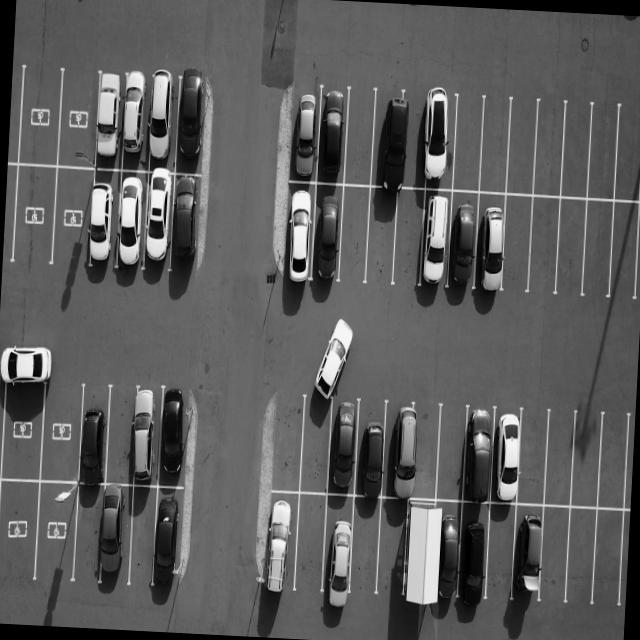car: (260, 490, 304, 600), (423, 503, 465, 612), (508, 501, 552, 603), (319, 491, 360, 600), (452, 502, 494, 608), (152, 487, 194, 592), (98, 484, 139, 590), (368, 86, 410, 189), (168, 173, 210, 275), (381, 404, 424, 503), (72, 385, 112, 488), (484, 410, 526, 507), (82, 167, 120, 274), (350, 400, 391, 497), (442, 190, 480, 294), (114, 168, 151, 274), (140, 170, 177, 276), (420, 94, 460, 192), (324, 399, 364, 496), (460, 406, 500, 503), (418, 189, 456, 291), (157, 389, 196, 488), (316, 86, 354, 187), (473, 192, 510, 295), (311, 182, 348, 284), (128, 388, 166, 487), (143, 74, 180, 173), (174, 76, 210, 176), (284, 182, 318, 286), (89, 72, 124, 170), (120, 74, 154, 172), (291, 86, 323, 186)
free: (38, 374, 88, 484), (0, 363, 45, 482), (50, 165, 96, 273), (9, 164, 55, 272), (16, 62, 61, 168), (292, 494, 335, 604), (299, 393, 342, 498), (102, 385, 146, 486), (478, 503, 520, 608), (57, 68, 100, 170), (266, 394, 308, 496), (344, 498, 385, 602), (0, 479, 39, 587), (558, 508, 600, 608), (564, 410, 605, 512), (596, 409, 636, 512), (540, 408, 581, 508), (534, 506, 574, 608), (590, 508, 630, 610), (68, 484, 108, 586), (371, 498, 412, 596), (515, 408, 555, 508), (578, 197, 616, 302), (430, 406, 470, 504), (342, 86, 381, 186), (552, 196, 590, 298), (527, 195, 565, 296), (498, 194, 535, 296), (402, 502, 438, 606), (406, 406, 444, 504), (392, 188, 429, 288), (558, 103, 595, 199), (126, 486, 160, 590), (607, 198, 640, 305), (417, 503, 450, 610), (338, 184, 373, 284), (362, 185, 398, 282), (448, 99, 484, 195), (478, 98, 514, 194), (502, 100, 538, 196), (583, 104, 619, 200), (533, 104, 569, 200), (39, 486, 74, 582), (400, 90, 432, 188), (613, 106, 640, 204)
